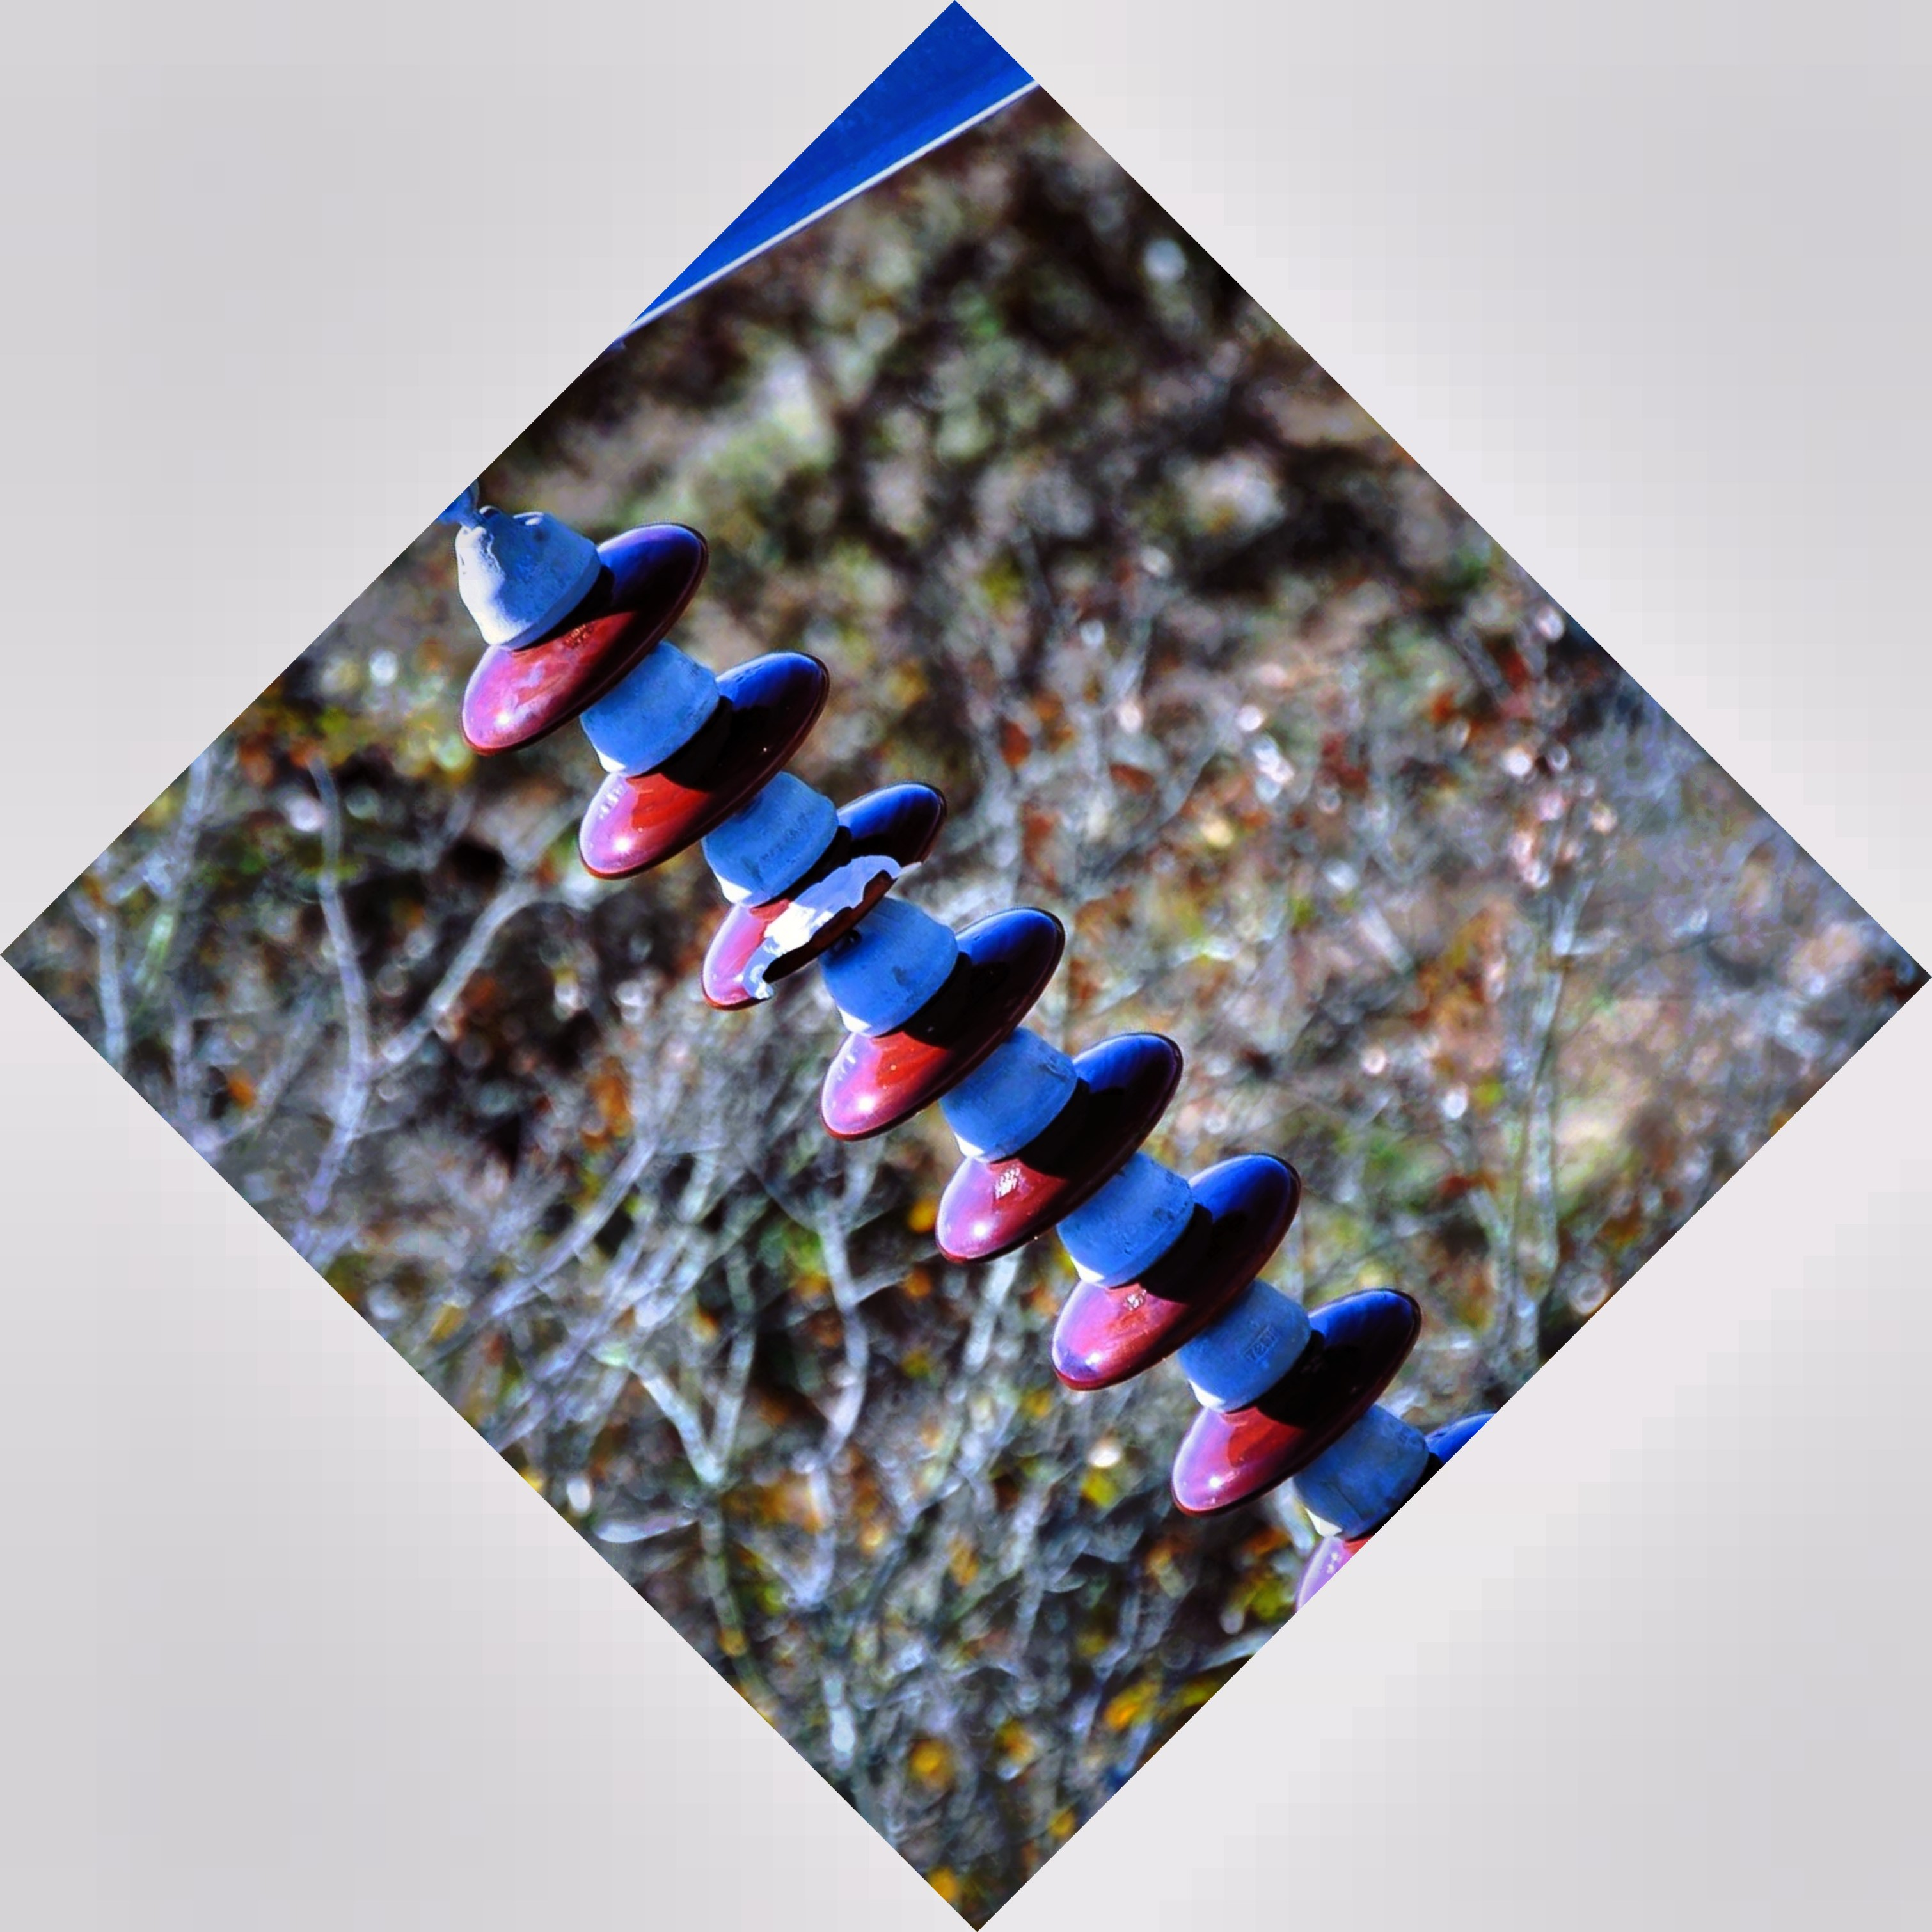insulator breakage: (685, 763, 948, 1023)
